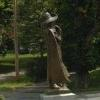Statue: (31, 4, 69, 80)
